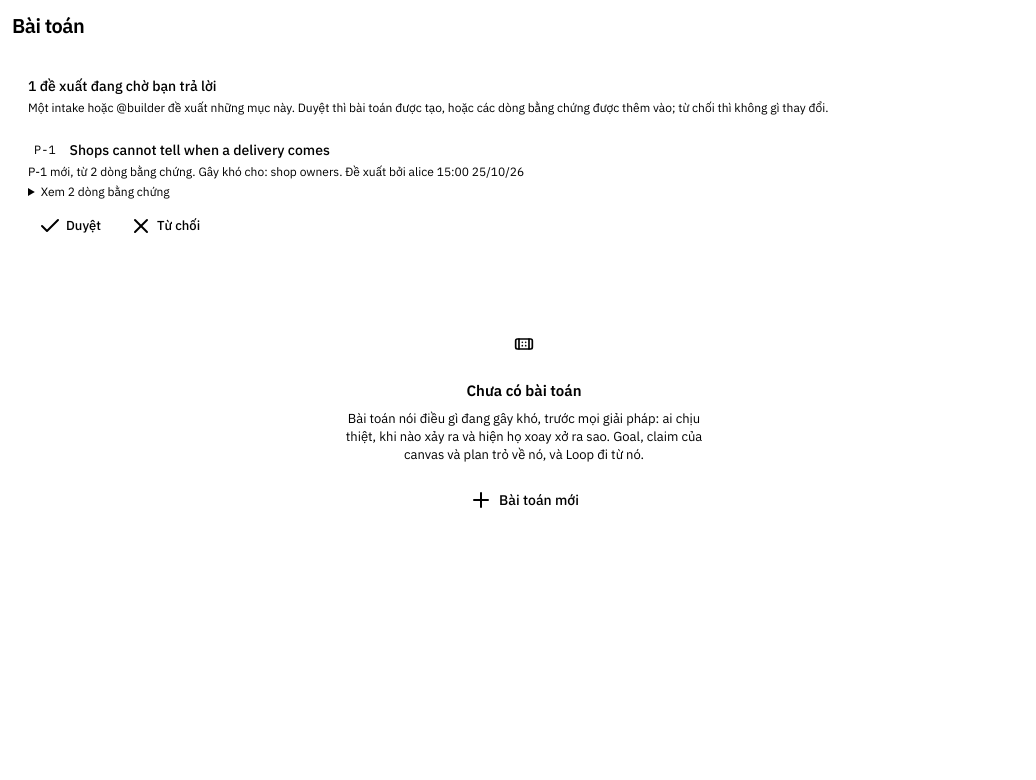
Test case: the proposals that wait for a writer › list an intake's proposal above the problems, with its lines of evidence, and approving it makes the problem
Check: the element with test id "waiting-proposals" shows "1 đề xuất đang chờ bạn trả lời", box x1=28 y1=77 x2=217 y2=95
Check: the element with test id "problems-empty" is shown, box x1=346 y1=334 x2=702 y2=516
What coordinates should you click on to do the following:
click the button with test id "waiting-proposal-approve"
I would click on:
 (70, 226)
Its box is x1=28 y1=212 x2=111 y2=240.
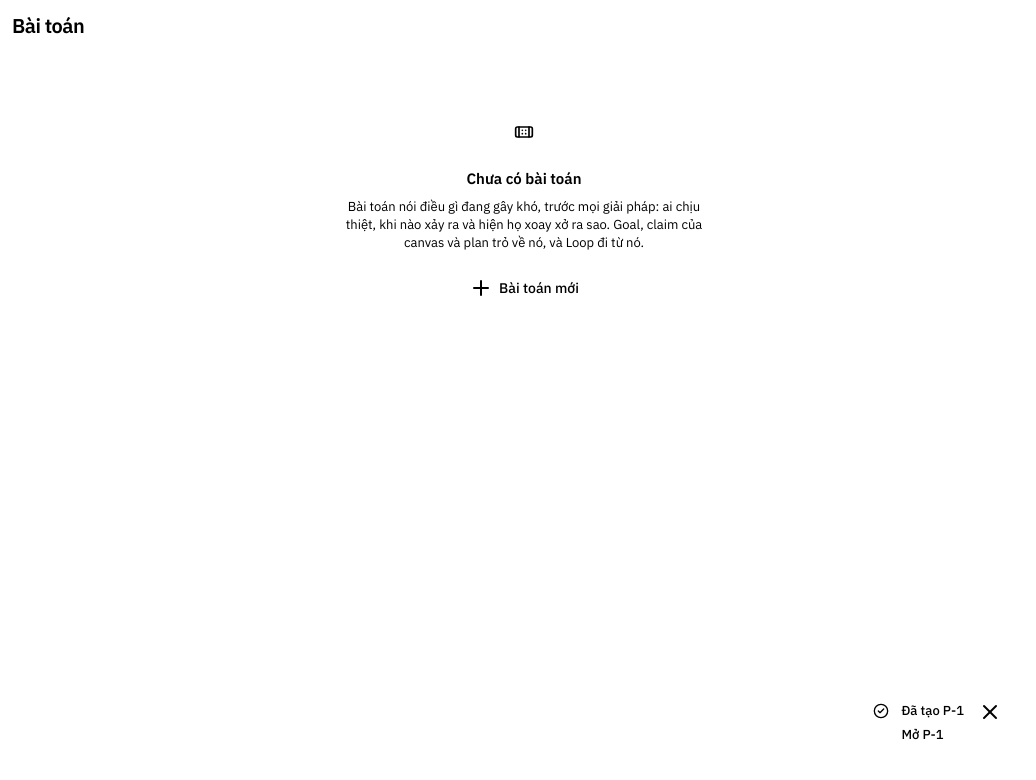
Check: the text "Đã tạo P-1" is shown, box x1=902 y1=702 x2=964 y2=720
Check: the element with test id "waiting-proposals" is gone
